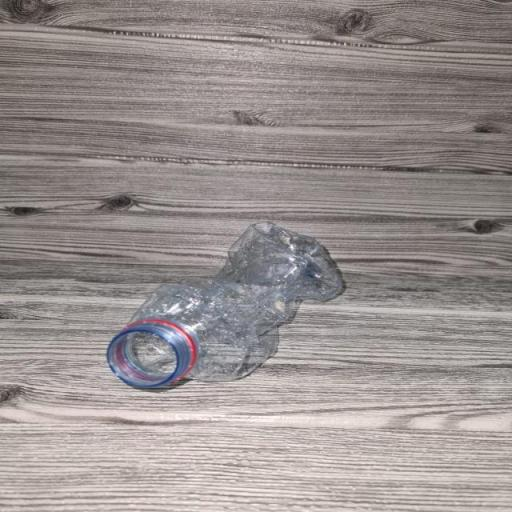plastic: (111, 224, 342, 391)
